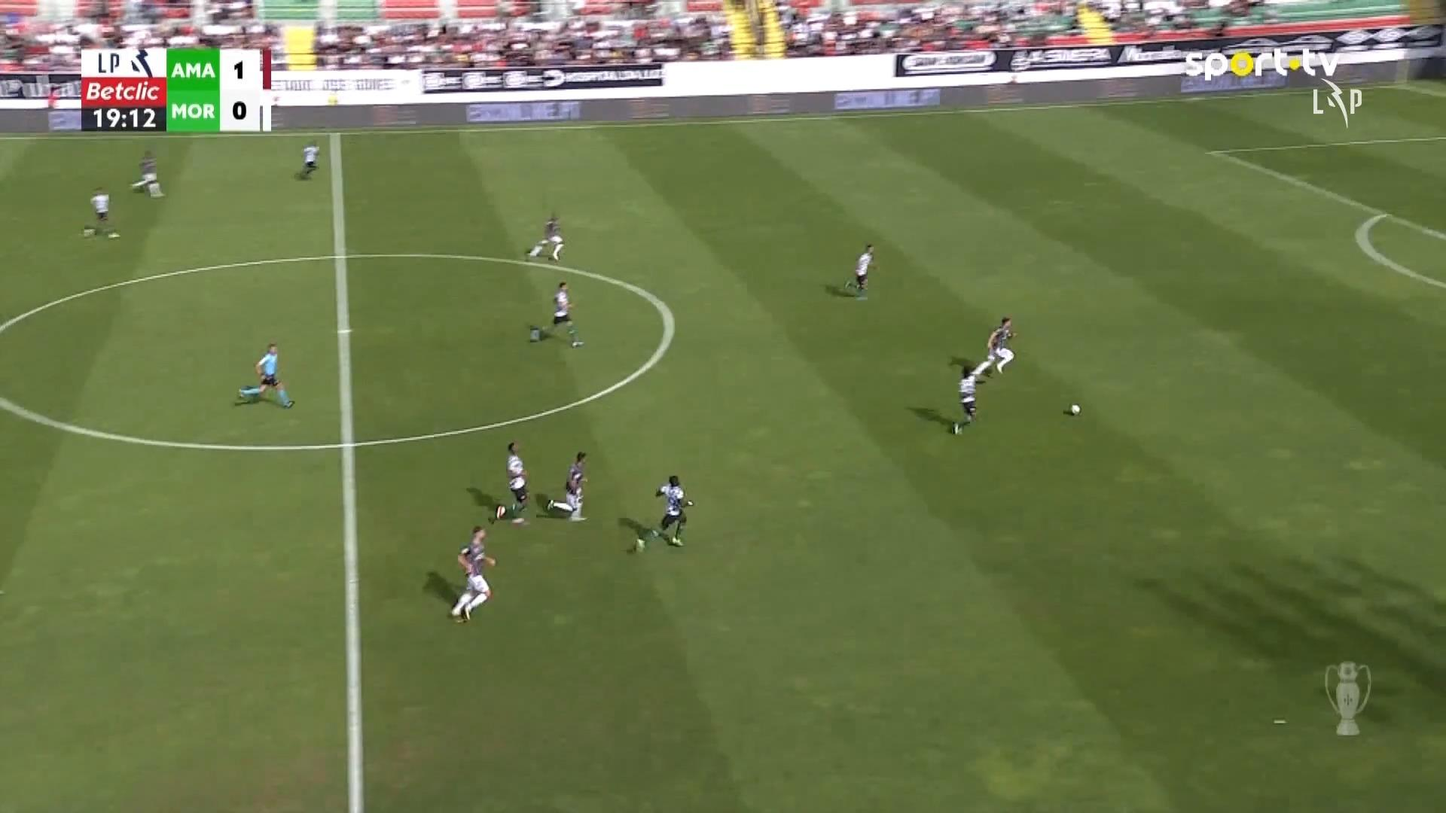ball: (1069, 403, 1080, 415)
player: (448, 525, 496, 623), (528, 280, 584, 348), (545, 450, 588, 521), (971, 315, 1017, 378), (654, 474, 694, 546), (495, 440, 529, 523), (950, 364, 987, 435), (81, 186, 120, 239), (524, 213, 565, 262), (129, 149, 165, 198), (847, 242, 874, 294), (294, 142, 320, 179)
referee: (233, 342, 294, 409)
